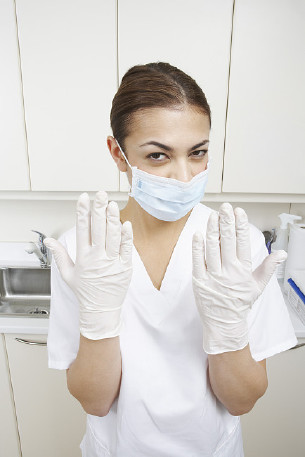face_mask: (128, 116, 209, 222)
